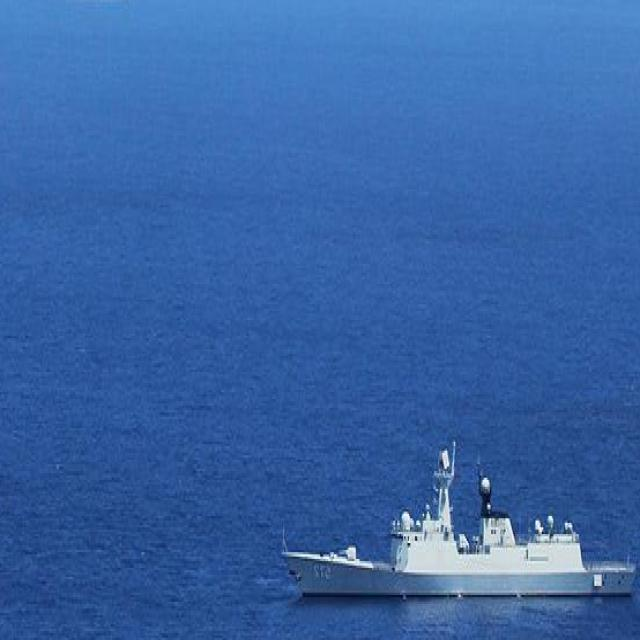navalvessels: (275, 431, 640, 608)
